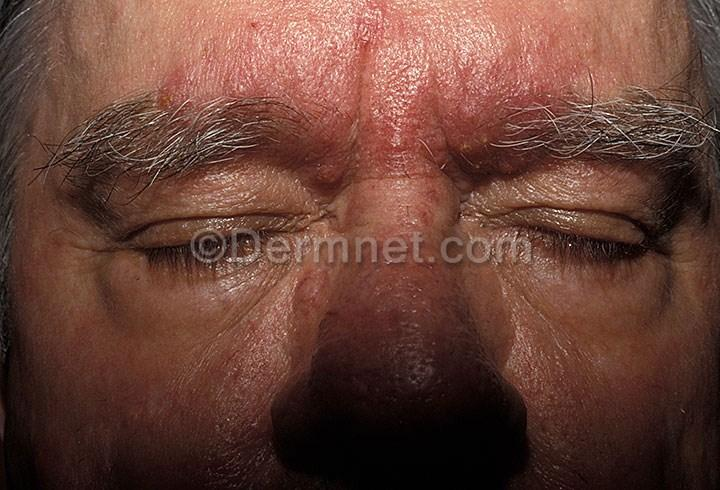Dry-Skin: (119, 278, 280, 407), (503, 155, 720, 234), (83, 176, 290, 245), (495, 283, 594, 384), (40, 193, 148, 279)
